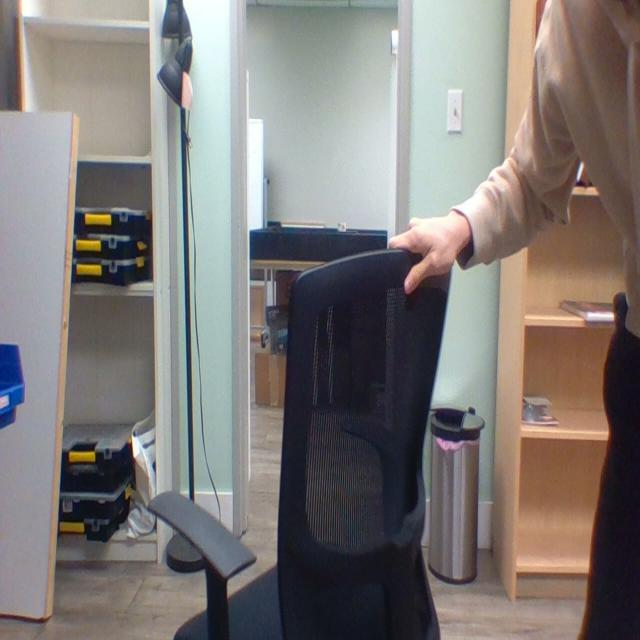black-chair: (137, 245, 447, 639)
